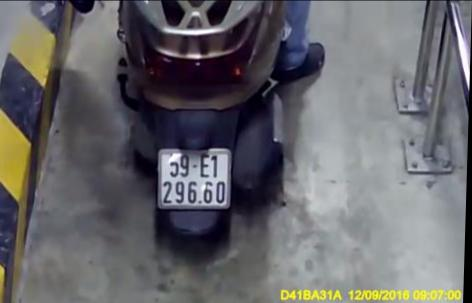LP: (154, 146, 235, 208)
